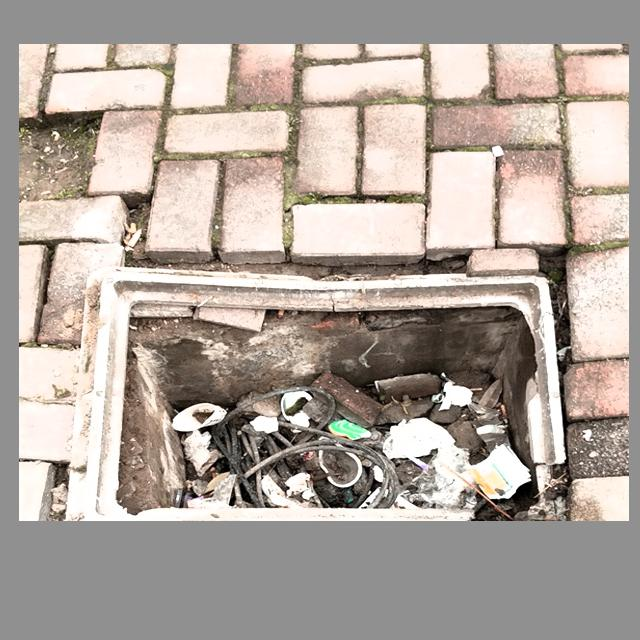lose: (74, 264, 567, 521)
